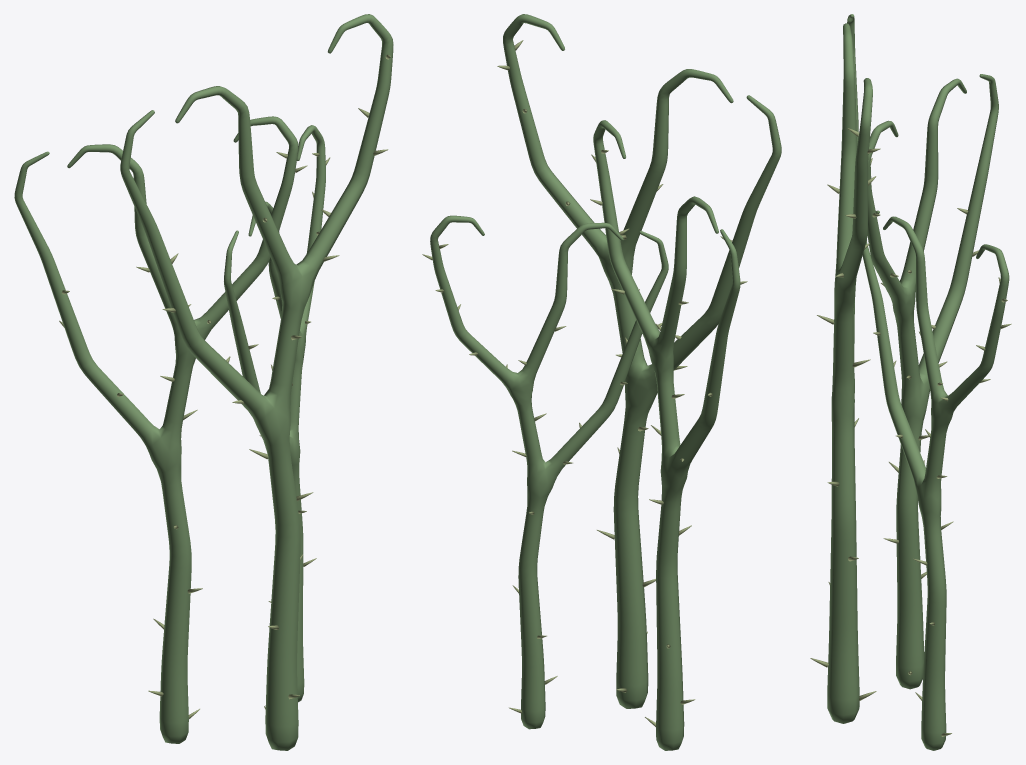
File: sawdonia.glb
3 renders of one model, left to right at view 1: azimuth 30°, elevation 25°; view 2: azimuth 150°, elevation 25°; view 3: azimuth 270°, elevation 25°, orthographic. The views are drawn at different scales.
Parts seen in each view (by area): view 1: continuous-spiny-shoot-with-circinate-tips-2, continuous-spiny-shoot-with-circinate-tips-0, continuous-spiny-shoot-with-circinate-tips-1, sparse-directional-spines-attached-along-shoots; view 2: continuous-spiny-shoot-with-circinate-tips-2, continuous-spiny-shoot-with-circinate-tips-0, continuous-spiny-shoot-with-circinate-tips-1, sparse-directional-spines-attached-along-shoots; view 3: continuous-spiny-shoot-with-circinate-tips-2, continuous-spiny-shoot-with-circinate-tips-0, continuous-spiny-shoot-with-circinate-tips-1, sparse-directional-spines-attached-along-shoots.
Part boxes in pixels (x1=…): continuous-spiny-shoot-with-circinate-tips-2: x1=120, y1=14, x2=393, y2=750; continuous-spiny-shoot-with-circinate-tips-0: x1=14, y1=116, x2=298, y2=743; continuous-spiny-shoot-with-circinate-tips-1: x1=224, y1=125, x2=325, y2=702; sparse-directional-spines-attached-along-shoots: x1=59, y1=54, x2=390, y2=718; continuous-spiny-shoot-with-circinate-tips-2: x1=503, y1=14, x2=781, y2=708; continuous-spiny-shoot-with-circinate-tips-0: x1=593, y1=120, x2=740, y2=750; continuous-spiny-shoot-with-circinate-tips-1: x1=430, y1=215, x2=668, y2=729; sparse-directional-spines-attached-along-shoots: x1=422, y1=40, x2=747, y2=726; continuous-spiny-shoot-with-circinate-tips-2: x1=827, y1=14, x2=872, y2=723; continuous-spiny-shoot-with-circinate-tips-0: x1=867, y1=74, x2=998, y2=689; continuous-spiny-shoot-with-circinate-tips-1: x1=862, y1=210, x2=1009, y2=750; sparse-directional-spines-attached-along-shoots: x1=810, y1=128, x2=1011, y2=736.
Size of the model in its own units: 0.0958 by 0.2 by 0.0534.
